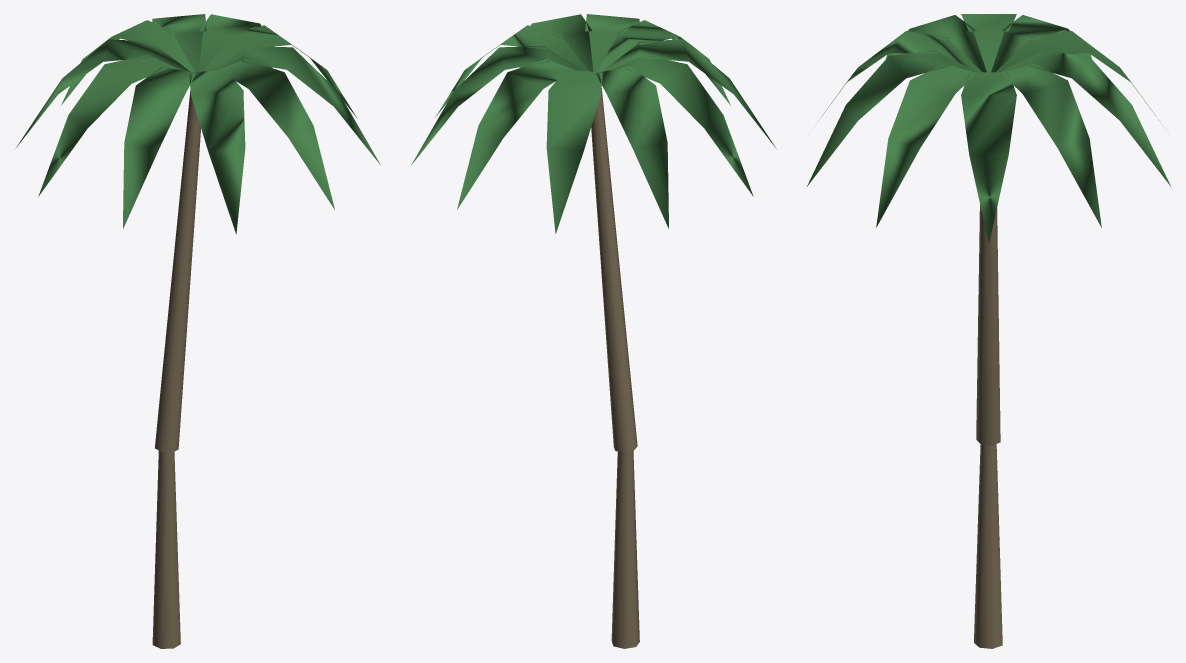
File: jungle-palm.glb
3 renders of one model, left to right at view 1: azimuth 30°, elevation 25°; view 2: azimuth 150°, elevation 25°; view 3: azimuth 270°, elevation 25°, orthographic. The views are drawn at different scales.
Parts seen in each view (by area): view 1: Тропическая пальма; view 2: Тропическая пальма; view 3: Тропическая пальма.
Part boxes in pixels (left/top/right/bottom): Тропическая пальма: left=16, top=14, right=380, bottom=648; Тропическая пальма: left=411, top=14, right=776, bottom=648; Тропическая пальма: left=807, top=14, right=1170, bottom=648.
Bounding box in the file's own units: 6.6 × 11.5 × 6.28.
